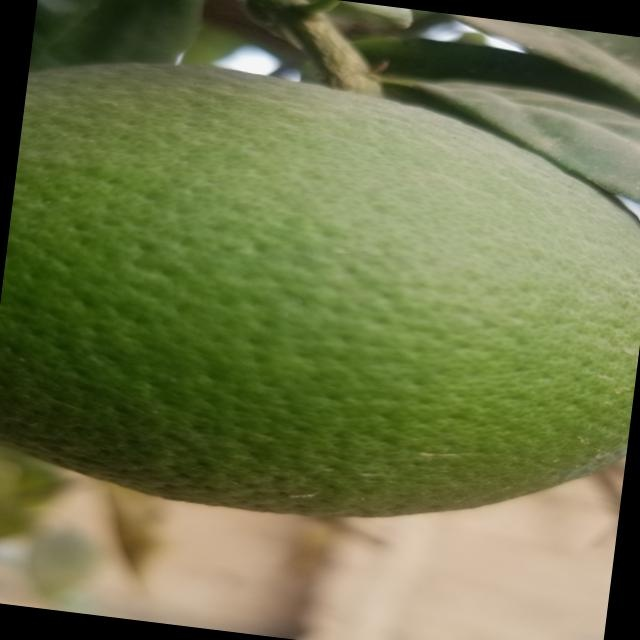agrume: (0, 40, 640, 553)
